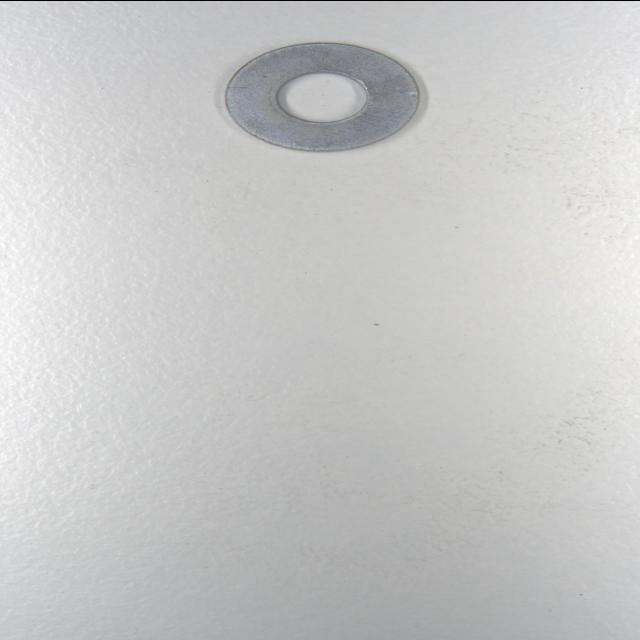washer: (220, 40, 420, 155)
